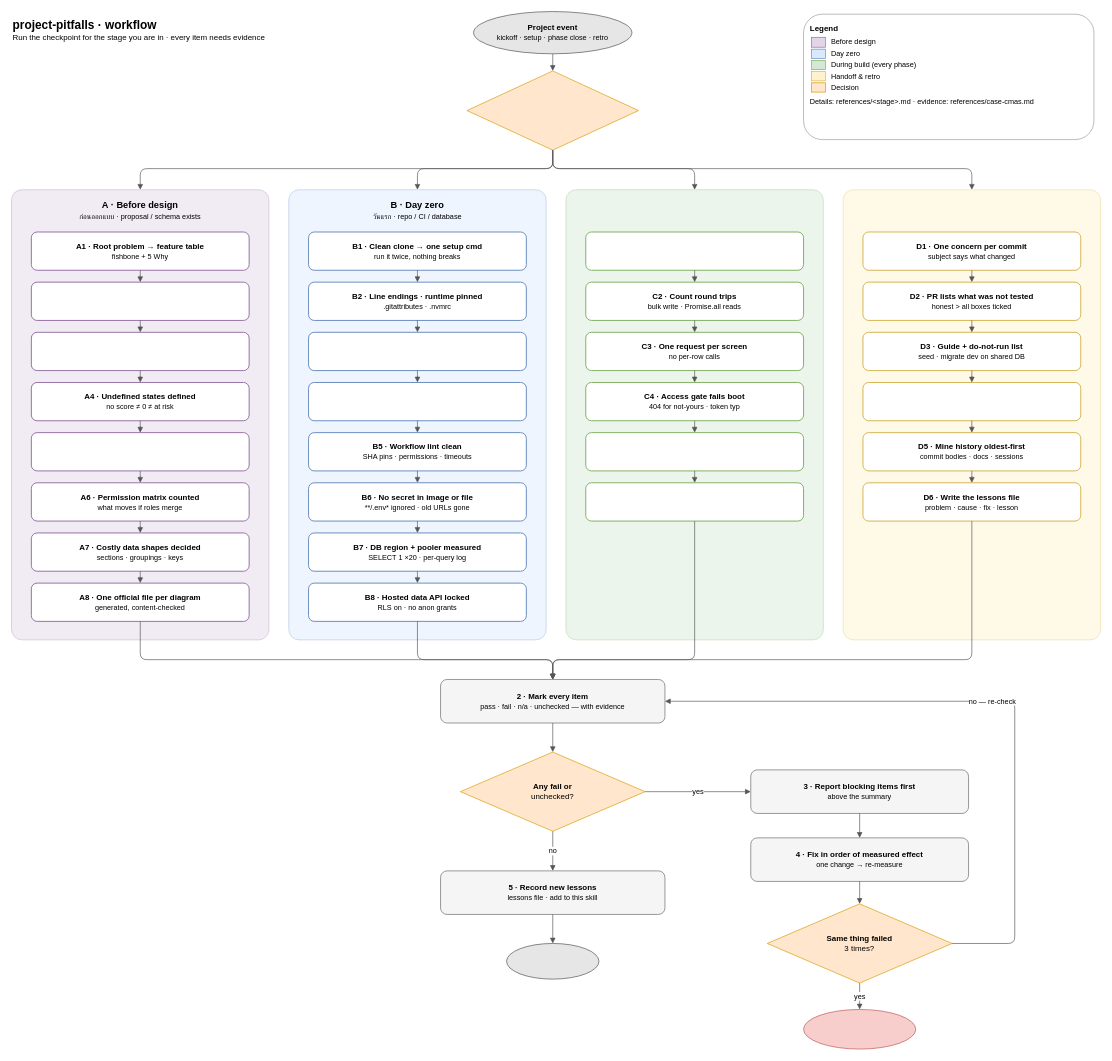
This 1112x1061 diagram has some shape labels left out. The box of each missing label's shape, as (x1, y1, x2, y2) in pixels:
1 · Which stage?: (466, 70, 639, 150)
A2 · Schema scope vs objective no unrequested boundary: (31, 281, 249, 321)
A3 · Calculation rules signed worked example + hand sheet: (31, 332, 249, 371)
A5 · Baseline measured time the manual process: (31, 432, 249, 471)
B3 · One runtime major everywhere .nvmrc · engines · CI · Docker: (308, 332, 527, 371)
B4 · CI required, each gate seen red break it on a throwaway branch: (308, 382, 527, 421)
C · During build ระหว่างพัฒนา · phase close · pre-merge · slow: (565, 189, 823, 640)
C1 · Measure first no-DB endpoint vs DB endpoint: (585, 231, 804, 270)
C5 · Tests isolated, seen failing serial DB tests · mutants: (585, 432, 804, 471)
C6 · Docs regenerated, checked code is the source of truth: (585, 482, 804, 521)
D · Handoff & retro ส่งต่อ · สรุปบทเรียน: (842, 189, 1101, 640)
D4 · Irreversible steps → human keep old until new verified: (862, 382, 1081, 421)
Done: (506, 943, 599, 979)
Escalate re-frame · ask one question: (803, 1009, 916, 1049)
